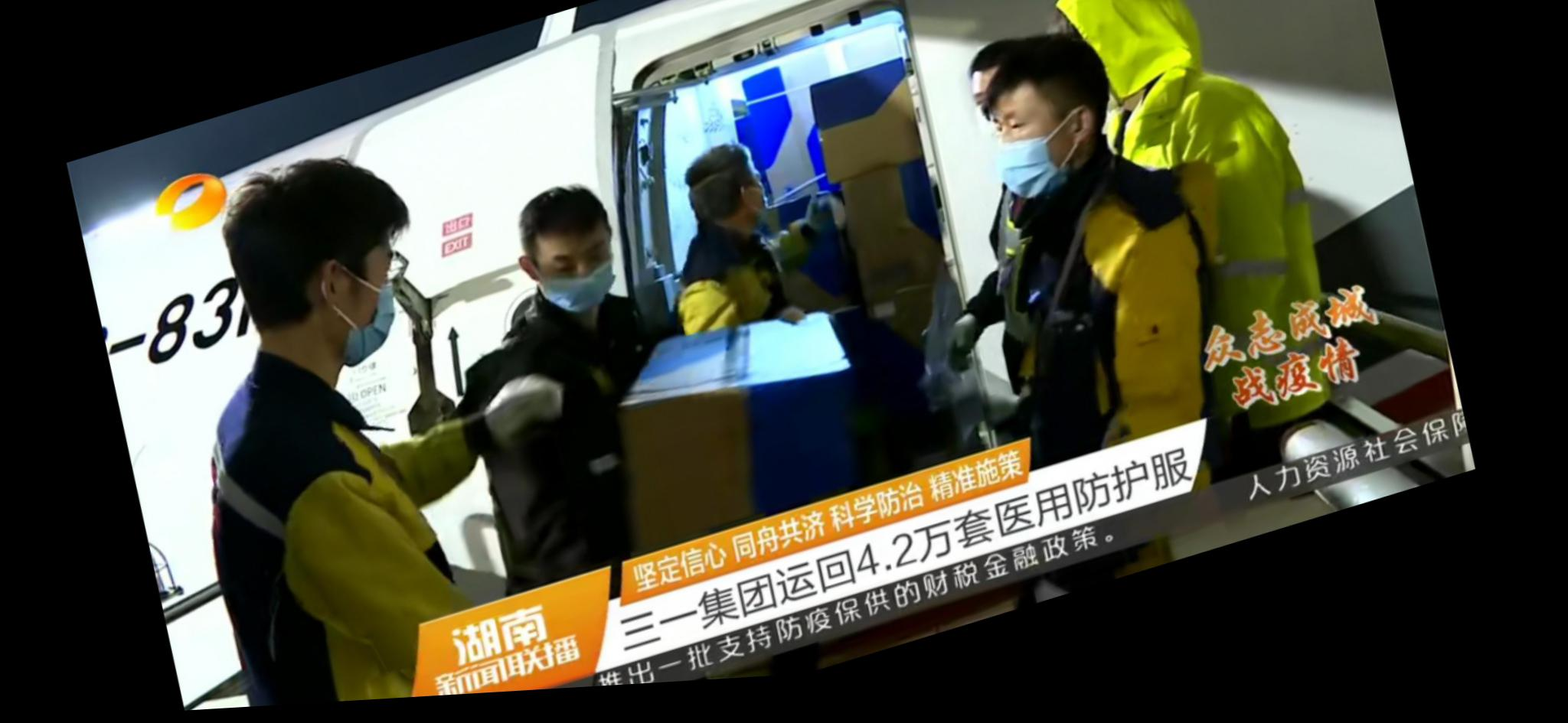OK: (310, 229, 420, 377), (984, 98, 1076, 219)
WRONG: (535, 229, 627, 328)
